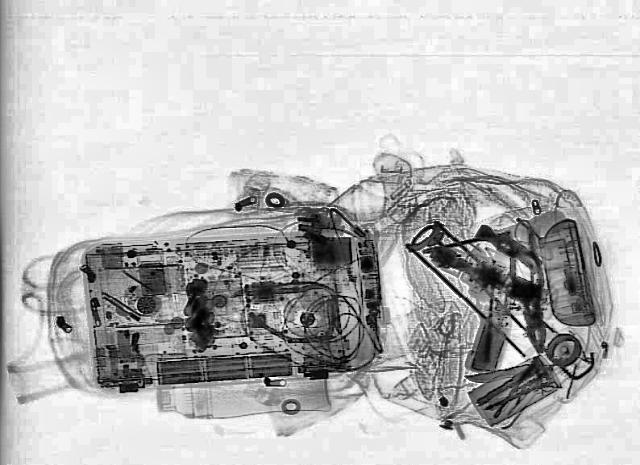Knife: (462, 364, 538, 384)
